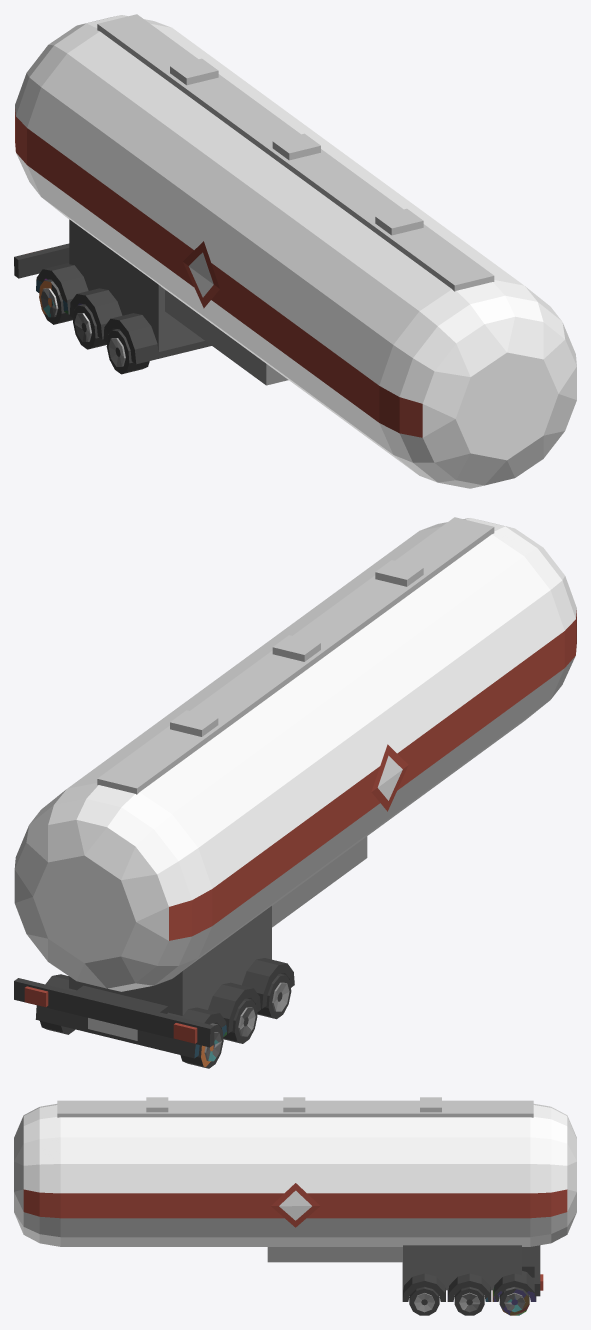
File: transport_truck_012.fbx
3 renders of one model, top to bottom at view 1: azimuth 30°, elevation 25°; view 2: azimuth 150°, elevation 25°; view 3: azimuth 270°, elevation 25°, orthographic. The views are drawn at different scales.
Parts seen in each view (by area): view 1: transport_truck_012; view 2: transport_truck_012; view 3: transport_truck_012.
Boxes of the visible parts, x1,y1,x2,y2 form: transport_truck_012: (14,14,576,488); transport_truck_012: (14,517,576,1068); transport_truck_012: (14,1097,576,1315).
Bounding box in the file's own units: 186 × 254 × 694.
